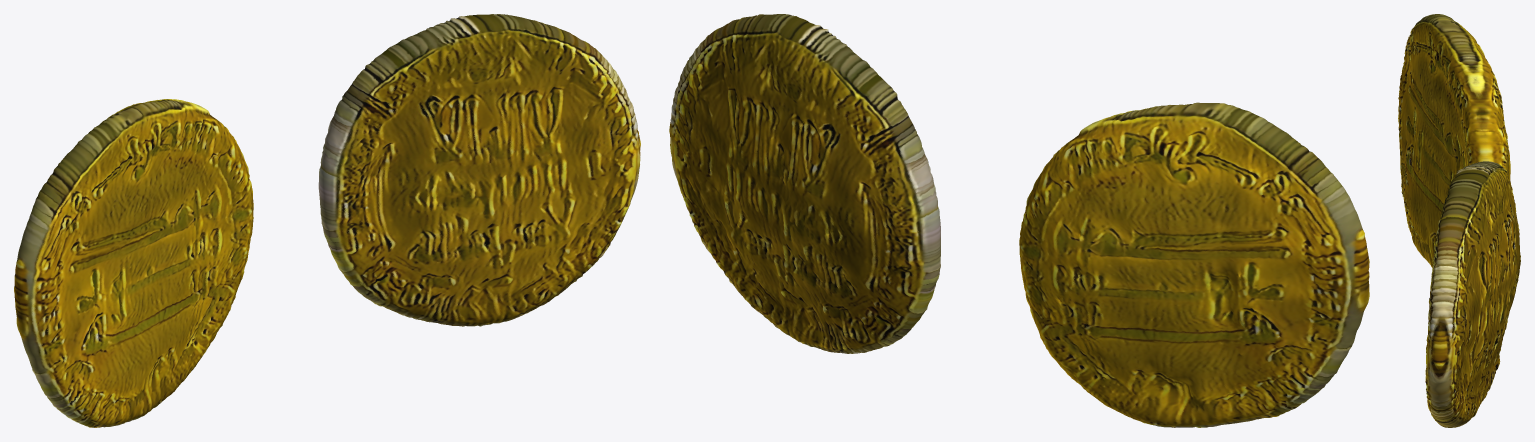
The model's file is kfl-2149.glb.
3 views of the same model, side by side, from view 1: azimuth 30°, elevation 25°; view 2: azimuth 150°, elevation 25°; view 3: azimuth 270°, elevation 25° (orthographic). The views are drawn at different scales.
Visible parts, largest first — view 1: kfl-2149; view 2: kfl-2149; view 3: kfl-2149.
Boxes of the visible parts, x1,y1,x2,y2 form: kfl-2149: (14, 14, 640, 427); kfl-2149: (669, 14, 1369, 427); kfl-2149: (1398, 14, 1520, 427).
Bounding box in the file's own units: 0.9902 × 0.4536 × 0.2017.
1 material, 1 textured.
